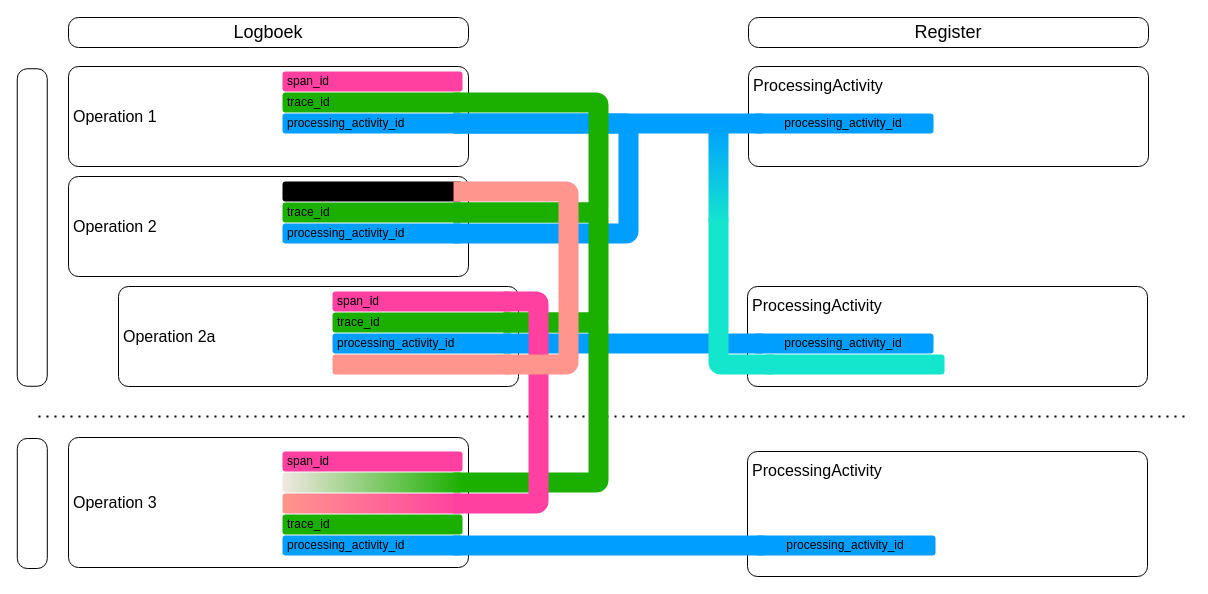
Image size: 1208x594. Some labels were removed from this diagram. Each missing label, with the centre of its shape:
"foreign_span_id" goes at point 372,503.
"foreign_trace_id" goes at point 372,482.
"Organisatie A" goes at point 31,227.
"Organisatie B" goes at point 31,503.
"parent_processing_activity_id" goes at point 854,364.
"parent_span_id" goes at point 422,364.
